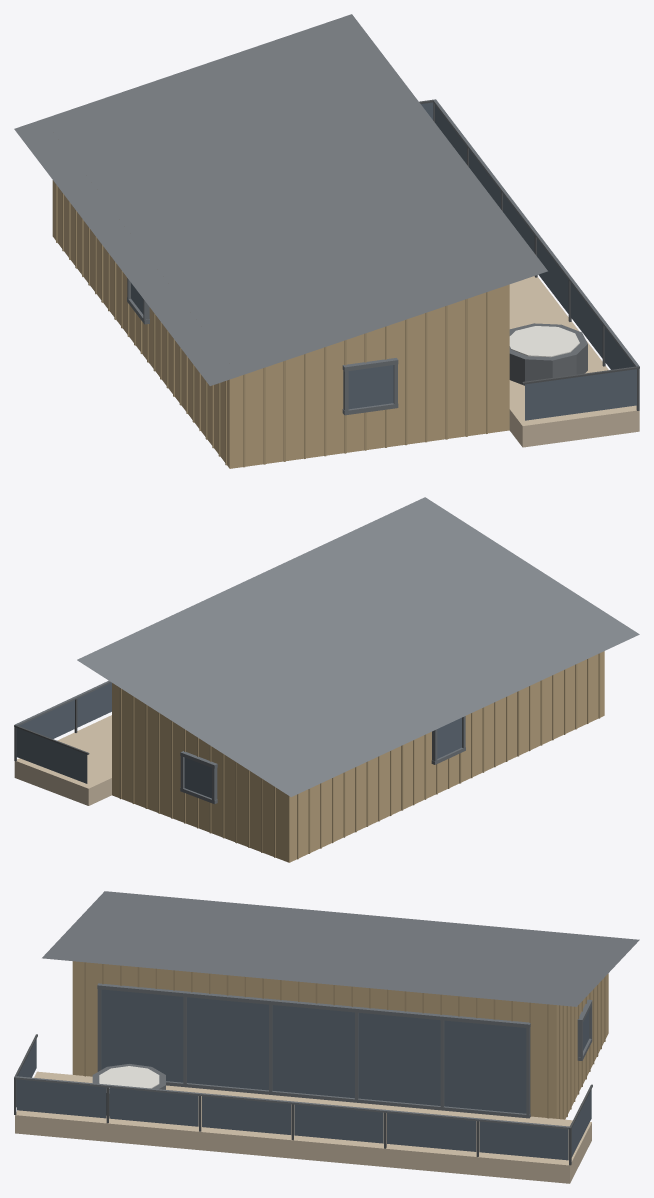
The picture shows the model from 3 angles, top to bottom: view 1: azimuth 30°, elevation 25°; view 2: azimuth 150°, elevation 25°; view 3: azimuth 270°, elevation 25°; orthographic projection. The views are drawn at different scales.
Visible parts, largest first — view 1: slate, door_wood, door_wood_p, larch, window_glass_007, slate_dk, band_dark, string, window_glass_016, window_glass_002, window_glass_003, pipe (+1 smaller); view 2: slate, door_wood, door_wood_p, larch, window_glass_008, slate_dk, window_glass_006, window_glass_005, window_glass_014, window_glass_015; view 3: slate, door_wood, larch, slate_dk, window_glass_013, window_glass_011, window_glass_012, window_glass_010, window_glass_009, door_wood_p, window_glass_006, window_glass_004 (+8 smaller).
Boxes of the visible parts, <box> form: slate: <box>14,14,547,385</box>; door_wood: <box>52,180,509,468</box>; door_wood_p: <box>56,184,487,467</box>; larch: <box>509,276,639,447</box>; window_glass_007: <box>525,369,636,420</box>; slate_dk: <box>127,99,639,415</box>; band_dark: <box>509,323,587,385</box>; string: <box>509,326,579,357</box>; window_glass_016: <box>348,365,393,409</box>; window_glass_002: <box>570,283,602,358</box>; window_glass_003: <box>537,239,568,313</box>; pipe: <box>419,99,639,410</box>; slate: <box>77,497,639,796</box>; door_wood: <box>112,651,604,862</box>; door_wood_p: <box>119,653,600,859</box>; larch: <box>14,715,111,805</box>; window_glass_008: <box>16,727,87,783</box>; slate_dk: <box>15,680,465,804</box>; window_glass_006: <box>19,700,74,738</box>; window_glass_005: <box>77,682,111,727</box>; window_glass_014: <box>184,757,211,798</box>; window_glass_015: <box>437,717,461,758</box>; slate: <box>42,891,639,1006</box>; door_wood: <box>72,961,608,1119</box>; larch: <box>15,1071,591,1183</box>; slate_dk: <box>15,983,592,1129</box>; window_glass_013: <box>444,1020,526,1113</box>; window_glass_011: <box>272,1005,354,1098</box>; window_glass_012: <box>358,1013,440,1105</box>; window_glass_010: <box>187,997,268,1090</box>; window_glass_009: <box>101,989,183,1082</box>; door_wood_p: <box>84,962,605,1119</box>; window_glass_006: <box>479,1121,568,1160</box>; window_glass_004: <box>294,1104,383,1143</box>.
Bounding box in the file's own units: 12.17 × 3.91 × 15.47.
